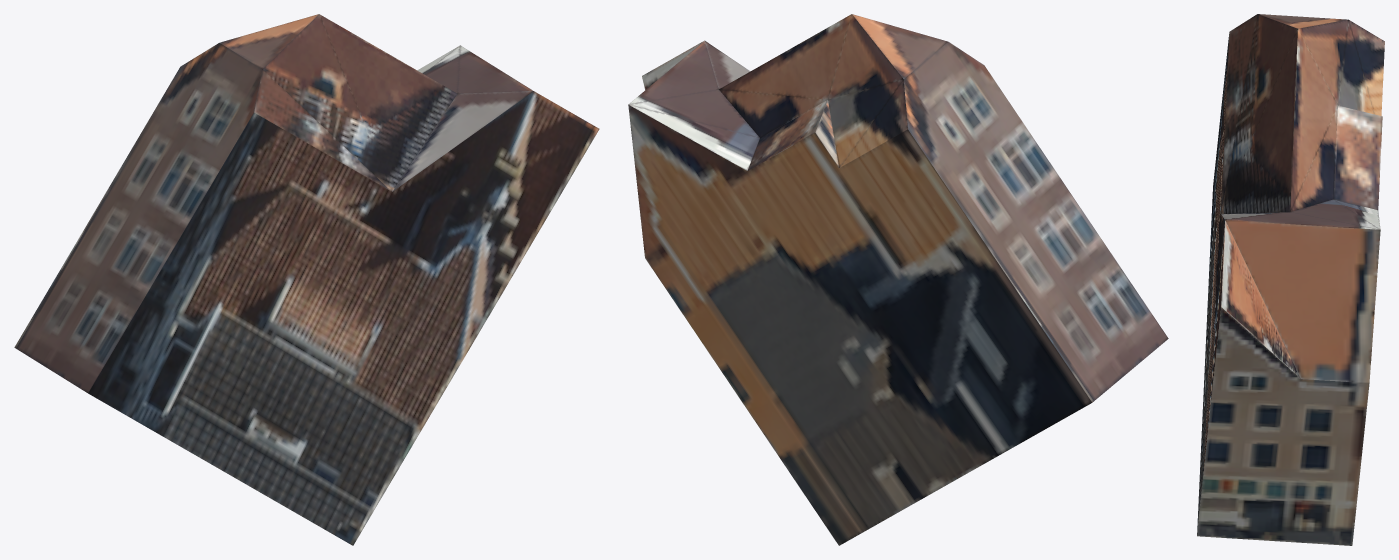
3 views of the same model, side by side, from view 1: azimuth 30°, elevation 25°; view 2: azimuth 150°, elevation 25°; view 3: azimuth 270°, elevation 25° (orthographic). The views are drawn at different scales.
Visible parts, largest first — view 1: BAG_0599100000760365 (×3); view 2: BAG_0599100000760365 (×5); view 3: BAG_0599100000760365 (×5).
Boxes of the visible parts, x1,y1,x2,y2 form: BAG_0599100000760365 (×3): (14, 14, 599, 545); BAG_0599100000760365 (×5): (628, 14, 1168, 545); BAG_0599100000760365 (×5): (1197, 14, 1384, 545).
Size of the model in its own units: 25.21 by 23.46 by 7.62.
Materials: 1 (1 with a texture image).
